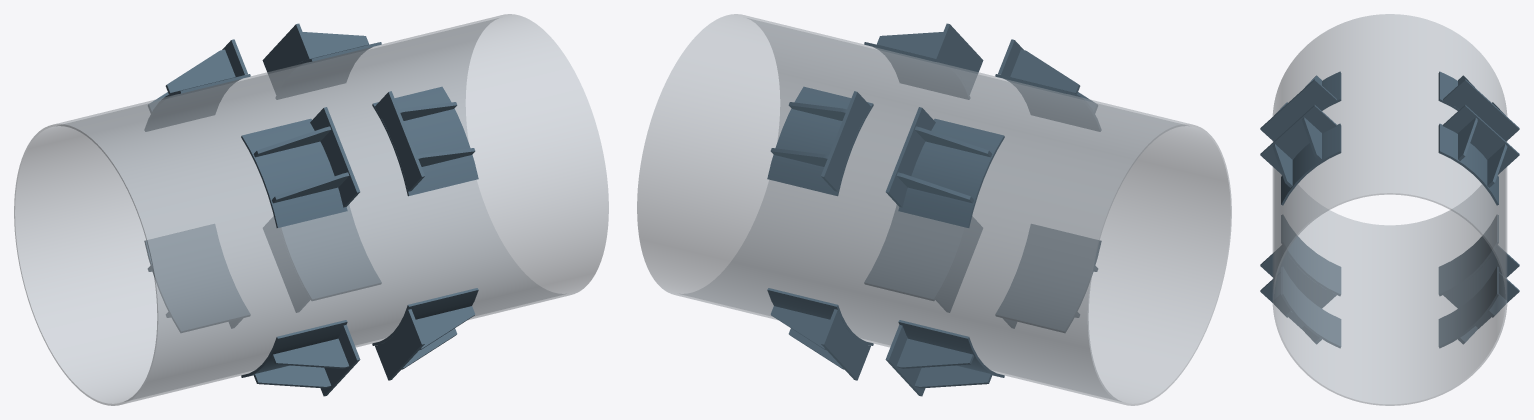
The model's file is TS-664.00.00-07-opora-dn1220-ris2.glb.
3 renders of one model, left to right at view 1: azimuth 30°, elevation 25°; view 2: azimuth 150°, elevation 25°; view 3: azimuth 270°, elevation 25°, orthographic. The views are drawn at different scales.
Parts seen in each view (by area): view 1: truba, det_24, det_8, det_20, det_4, det_28, det_32, det_1, det_9, det_5, det_25, det_14 (+12 smaller); view 2: truba, det_16, det_32, det_12, det_28, det_4, det_8, det_25, det_17, det_29, det_1, det_23 (+12 smaller); view 3: truba, det_12, det_20, det_16, det_24, det_5, det_29, det_1, det_25, det_4, det_28, det_13 (+9 smaller).
Boxes of the visible parts, left/top/right/bottom form: truba: left=14, top=14, right=608, bottom=405; det_24: left=144, top=224, right=250, bottom=332; det_8: left=241, top=118, right=347, bottom=227; det_20: left=280, top=205, right=381, bottom=300; det_4: left=372, top=86, right=478, bottom=196; det_28: left=276, top=42, right=381, bottom=99; det_32: left=145, top=74, right=250, bottom=131; det_1: left=375, top=91, right=424, bottom=191; det_9: left=375, top=309, right=424, bottom=380; det_5: left=310, top=107, right=360, bottom=207; det_25: left=262, top=23, right=312, bottom=94; det_14: left=272, top=338, right=349, bottom=368; truba: left=637, top=14, right=1231, bottom=405; det_16: left=995, top=224, right=1101, bottom=332; det_32: left=898, top=118, right=1004, bottom=227; det_12: left=864, top=205, right=965, bottom=300; det_28: left=767, top=86, right=873, bottom=196; det_4: left=864, top=42, right=969, bottom=99; det_8: left=995, top=74, right=1100, bottom=131; det_25: left=821, top=91, right=870, bottom=191; det_17: left=821, top=309, right=870, bottom=380; det_29: left=885, top=107, right=935, bottom=207; det_1: left=933, top=23, right=983, bottom=94; det_23: left=896, top=338, right=973, bottom=368; truba: left=1272, top=14, right=1507, bottom=405; det_12: left=1281, top=266, right=1341, bottom=348; det_20: left=1438, top=266, right=1498, bottom=348; det_16: left=1281, top=215, right=1341, bottom=295; det_24: left=1438, top=215, right=1498, bottom=295; det_5: left=1260, top=79, right=1336, bottom=141; det_29: left=1443, top=79, right=1519, bottom=141; det_1: left=1260, top=104, right=1336, bottom=174; det_25: left=1443, top=104, right=1519, bottom=174; det_4: left=1281, top=123, right=1341, bottom=205; det_28: left=1438, top=123, right=1498, bottom=205; det_13: left=1260, top=245, right=1336, bottom=308.
Bounding box in the file's own units: 2200 × 1348 × 1348.
